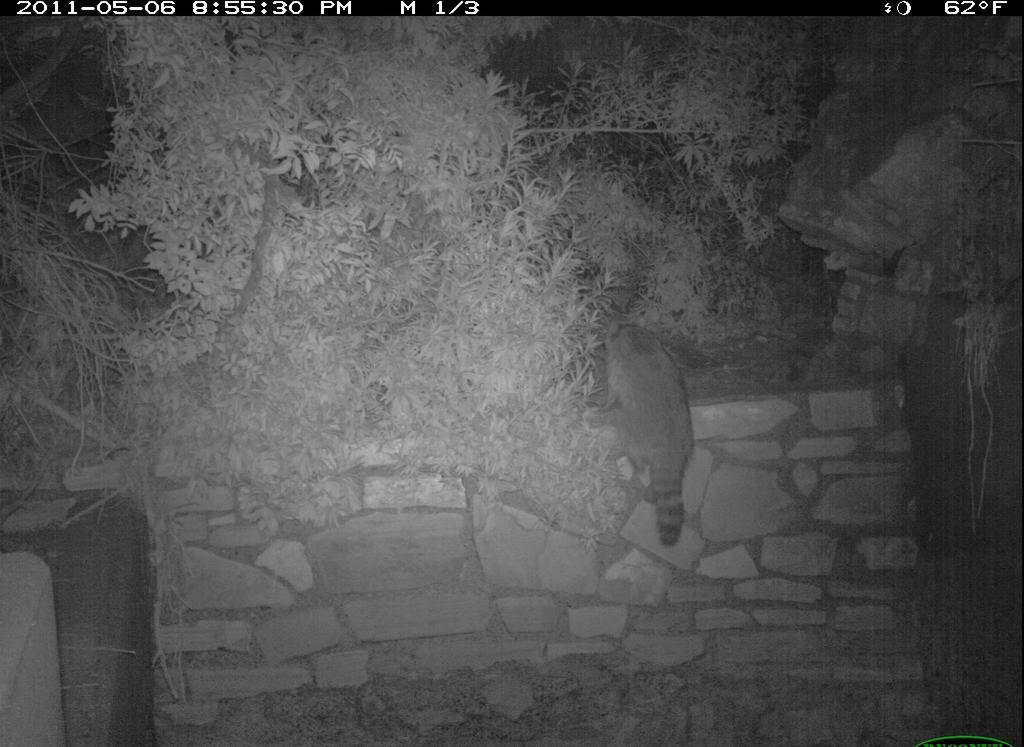raccoon: (588, 305, 708, 560)
